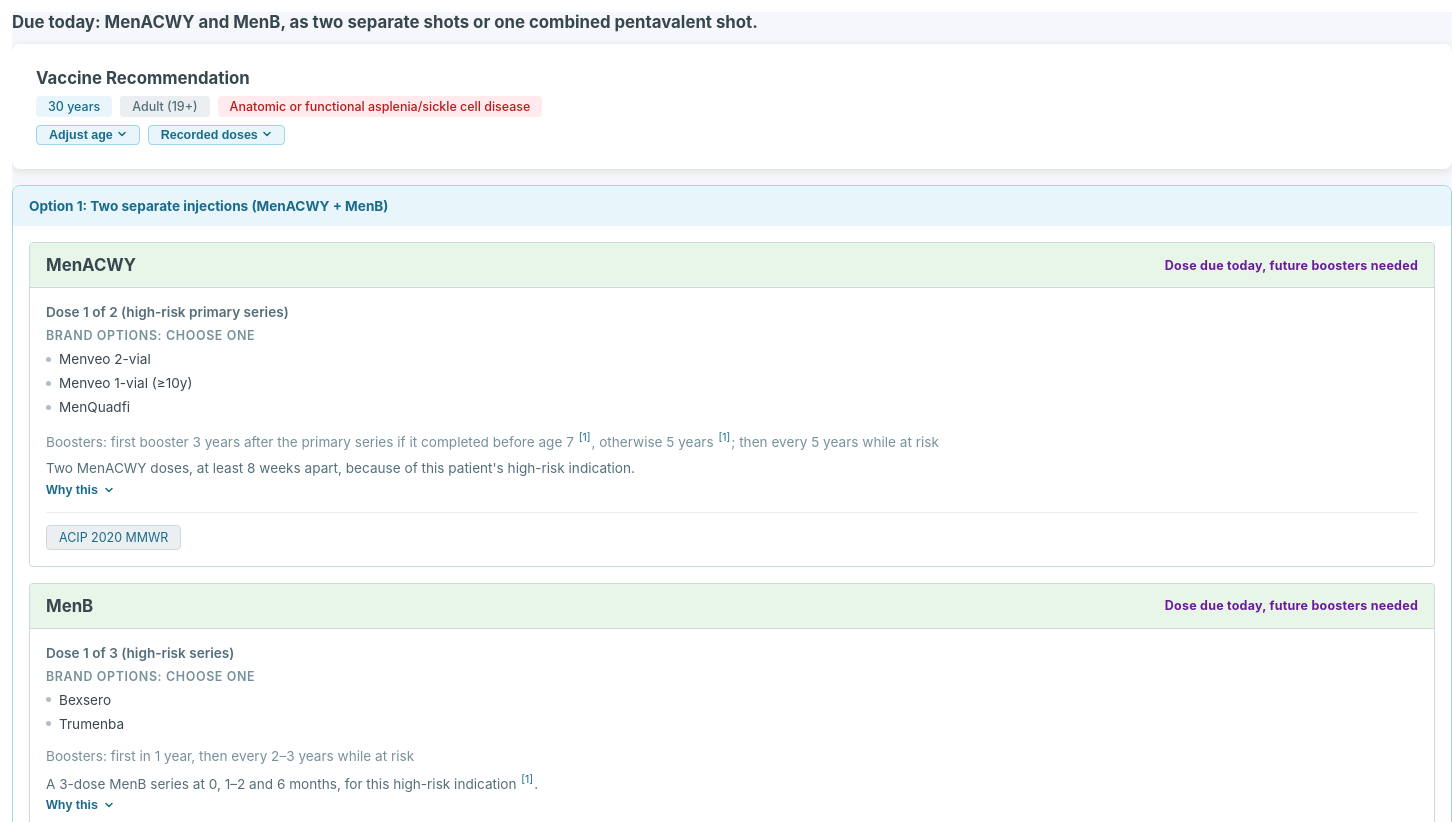
Item 5: MenB family-lock guidance appears in the Results editor too › shows "Family locked: MenB-4C" after picking Bexsero as dose 1 in the Results panel
Click the button "Recorded doses" at (216, 135), box [148,125,285,145]
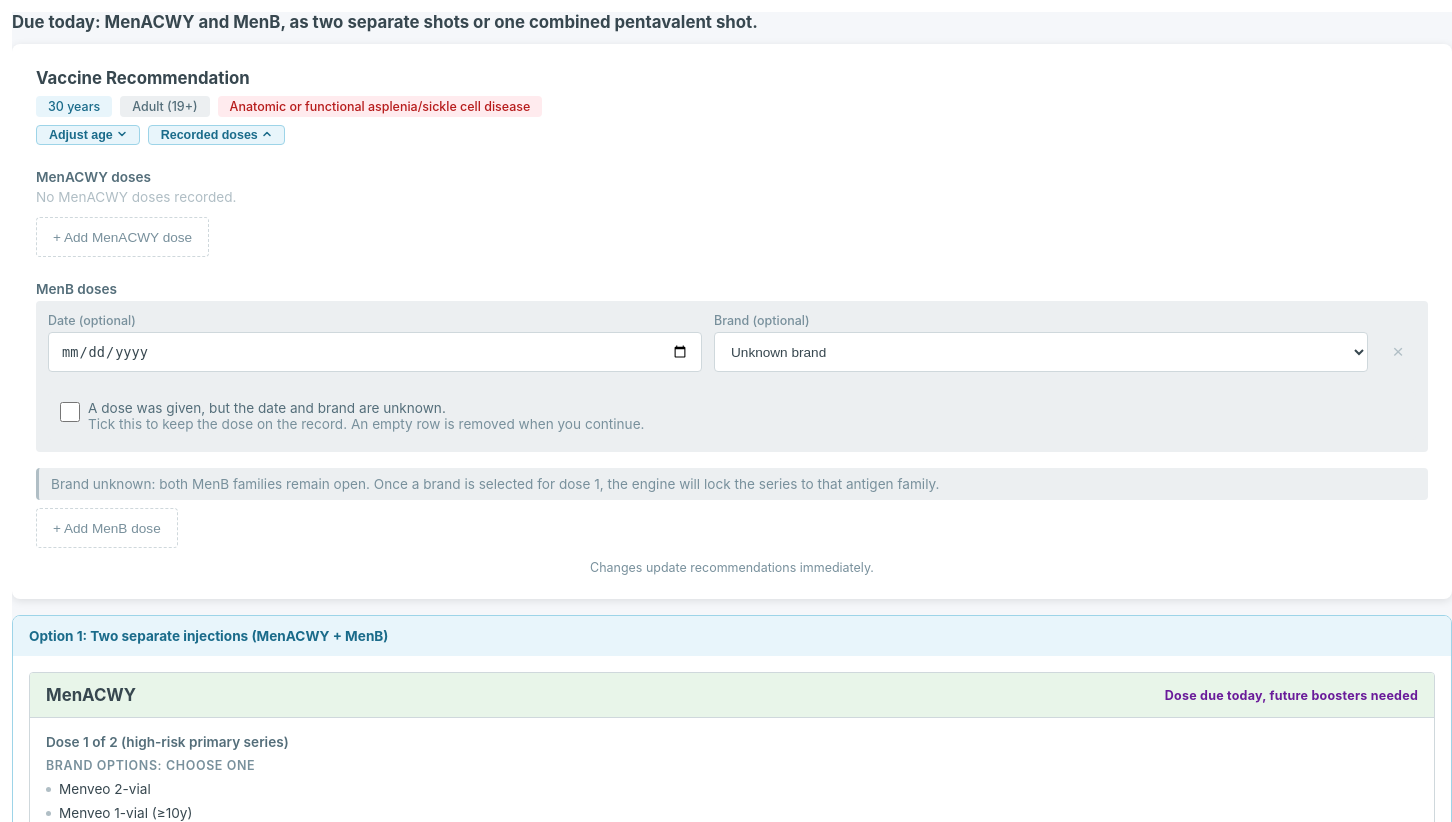
Select "Bexsero (MenB)" in the dropdown at (1041, 352), box [714,332,1368,372]
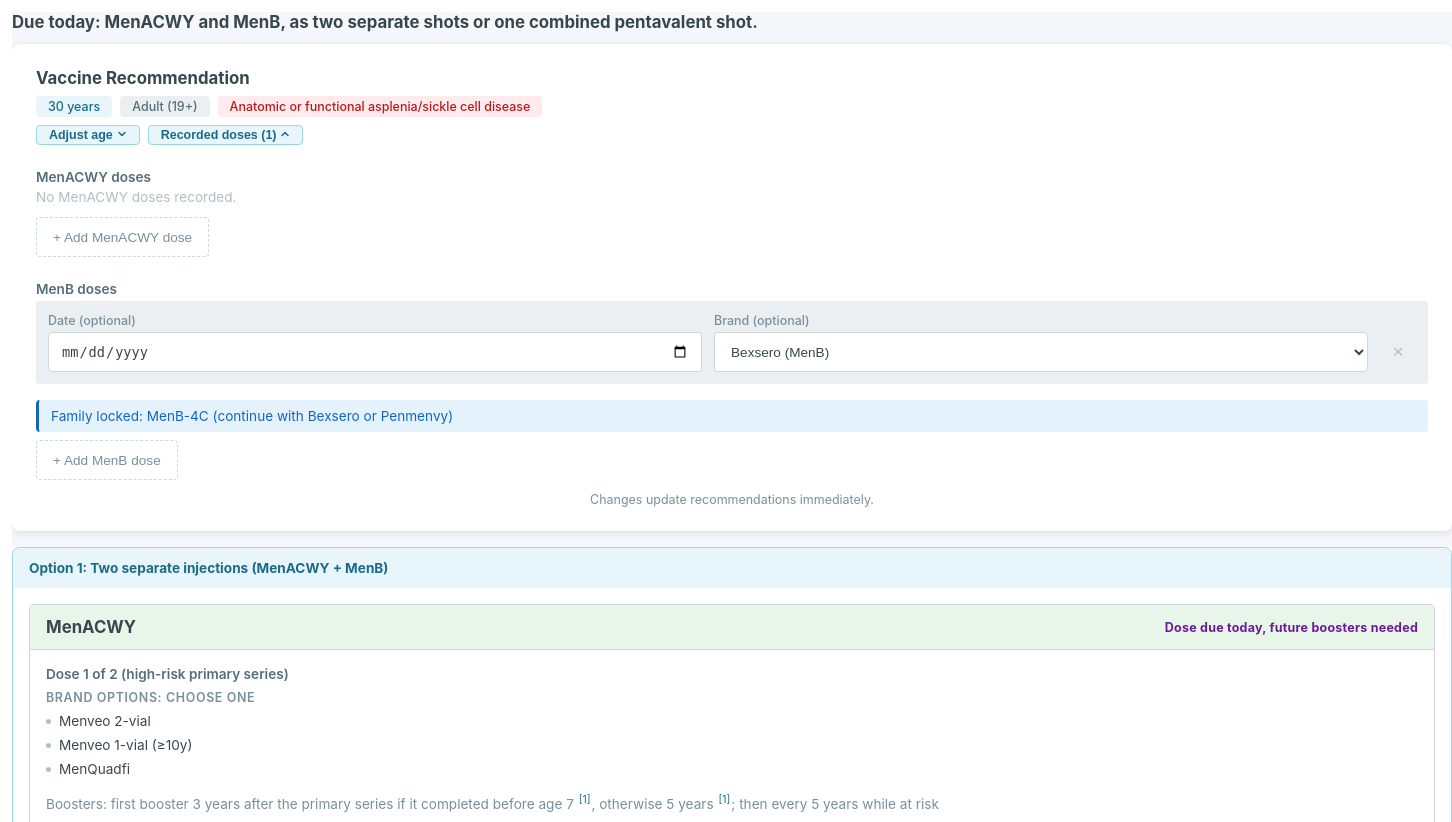
Now the element with test id "recorded-doses-panel" shows "Family locked: MenB-4C", box [51,408,453,424]
